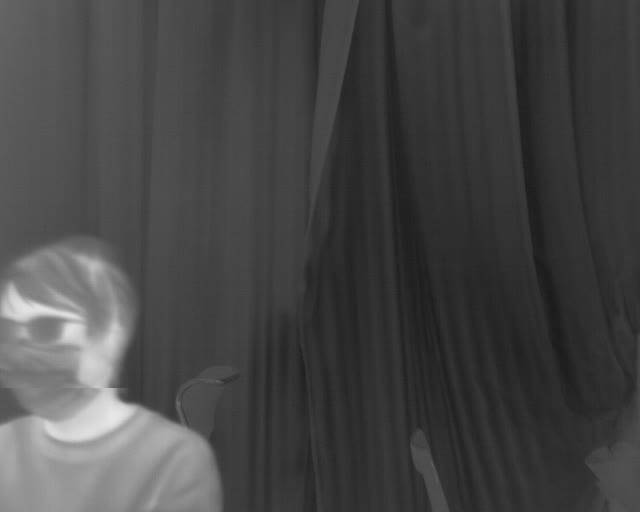face: (4, 238, 139, 422)
